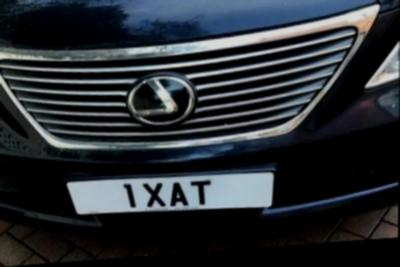License_Plate: (74, 165, 280, 213)
